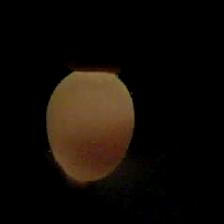infertile: (43, 68, 134, 182)
